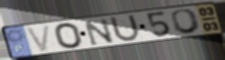5: (145, 9, 173, 38)
N: (82, 17, 117, 47)
O: (169, 8, 203, 35), (53, 22, 85, 50)
U: (108, 13, 142, 43)
V: (24, 23, 52, 53)
